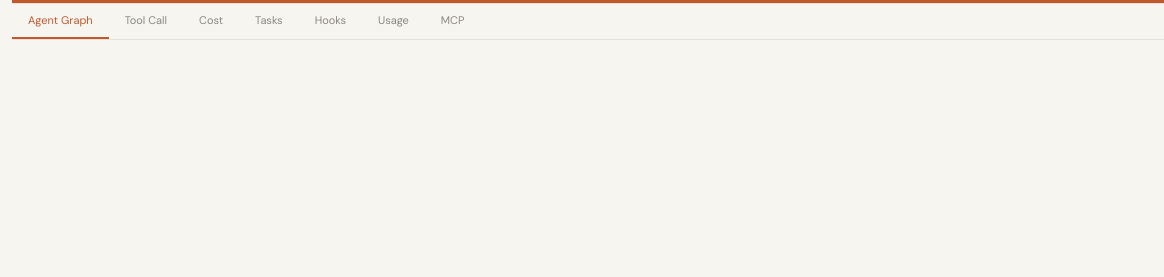
Test: BottomPanel › renders CostTab empty state when no metrics
Click the button "Cost" at (211,21), box left=183, top=4, right=239, bottom=38
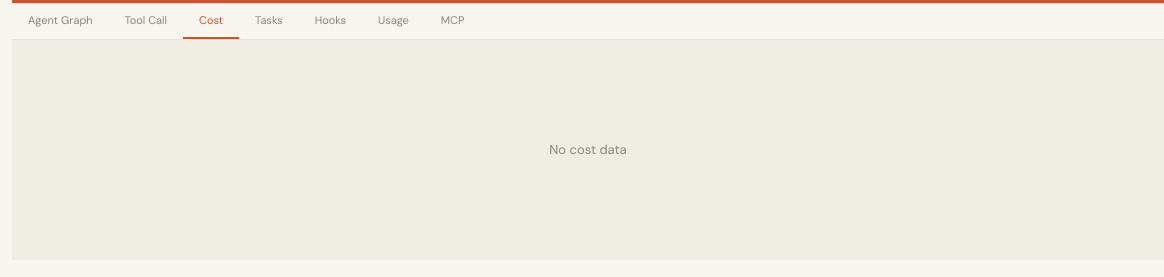
Expected: the text "No cost data" is shown, left=549, top=140, right=627, bottom=159
